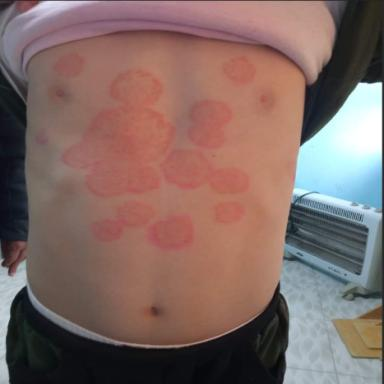Tinea-Corporis: (62, 71, 175, 196), (161, 149, 249, 193), (94, 200, 154, 241), (189, 101, 232, 148), (148, 215, 194, 249), (222, 56, 256, 84), (53, 53, 85, 77), (215, 201, 246, 223)
